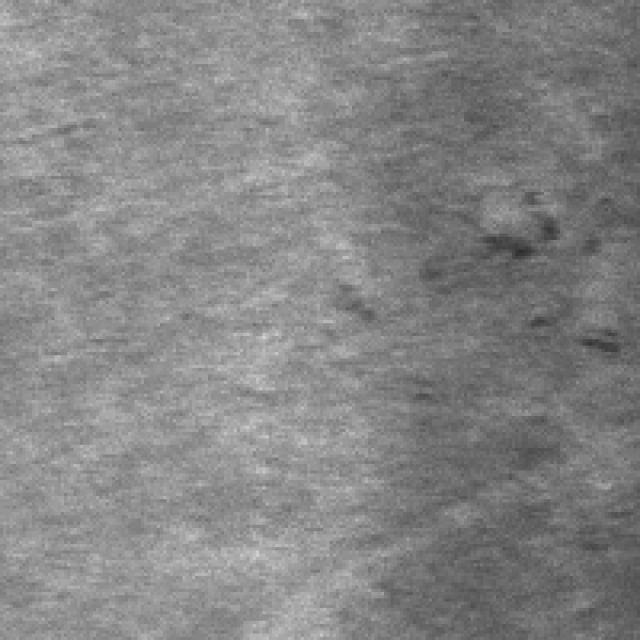rolled-in_scale: (390, 182, 621, 358)
